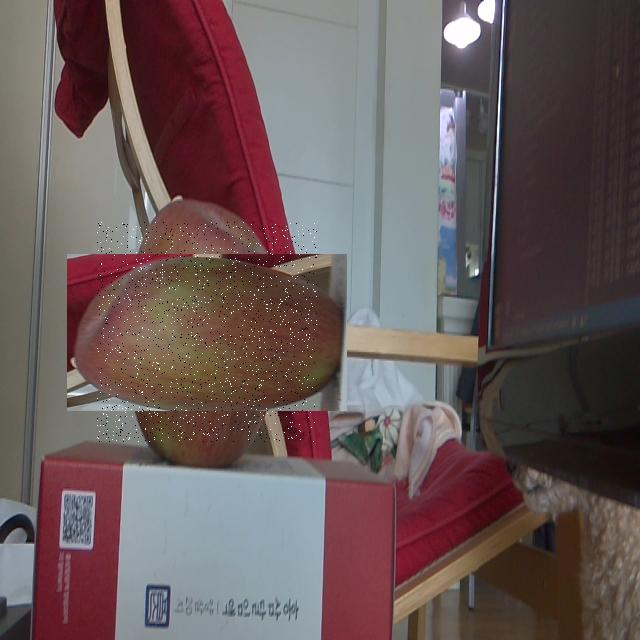apple: (97, 222, 317, 442)
